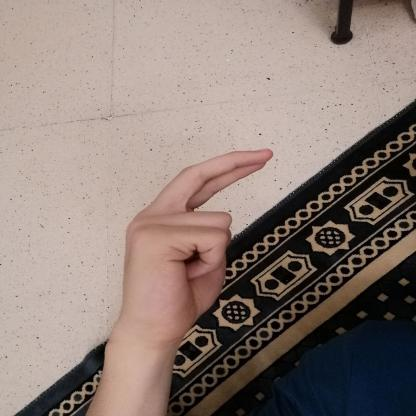ZAY: (109, 140, 287, 339)
